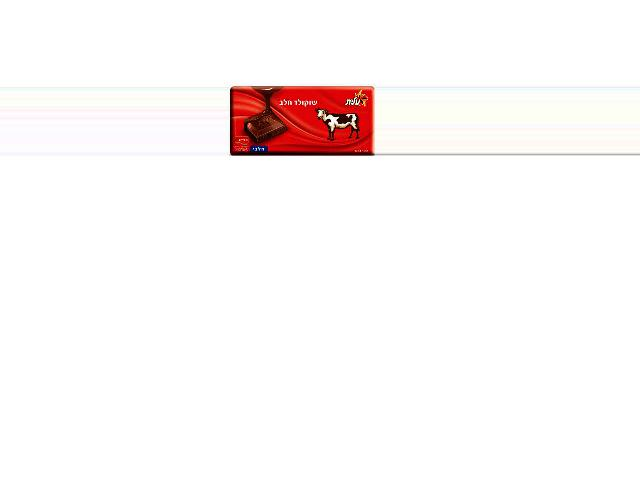chocolate: (229, 85, 375, 155)
